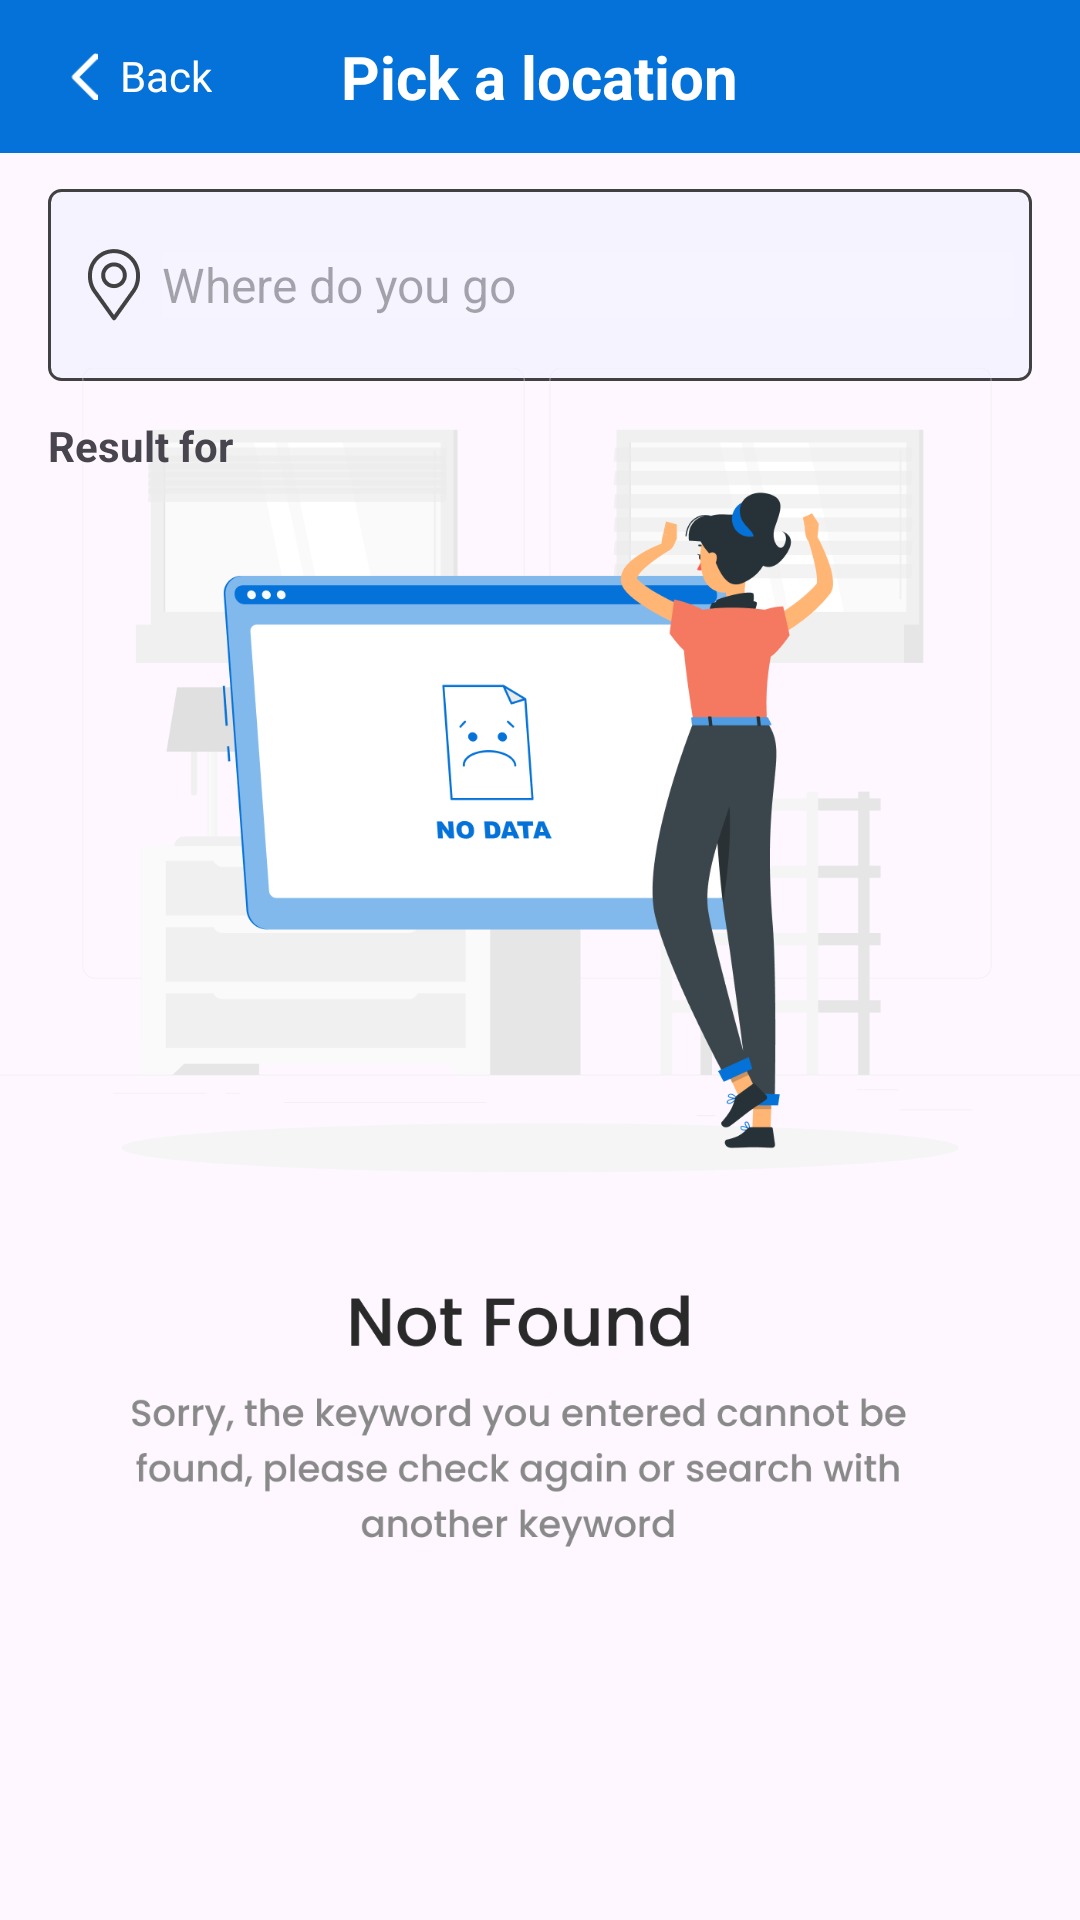

Where to tap for icons on this 1080 x 1920 app screen, as [x,y]:
map location: [114,285]
